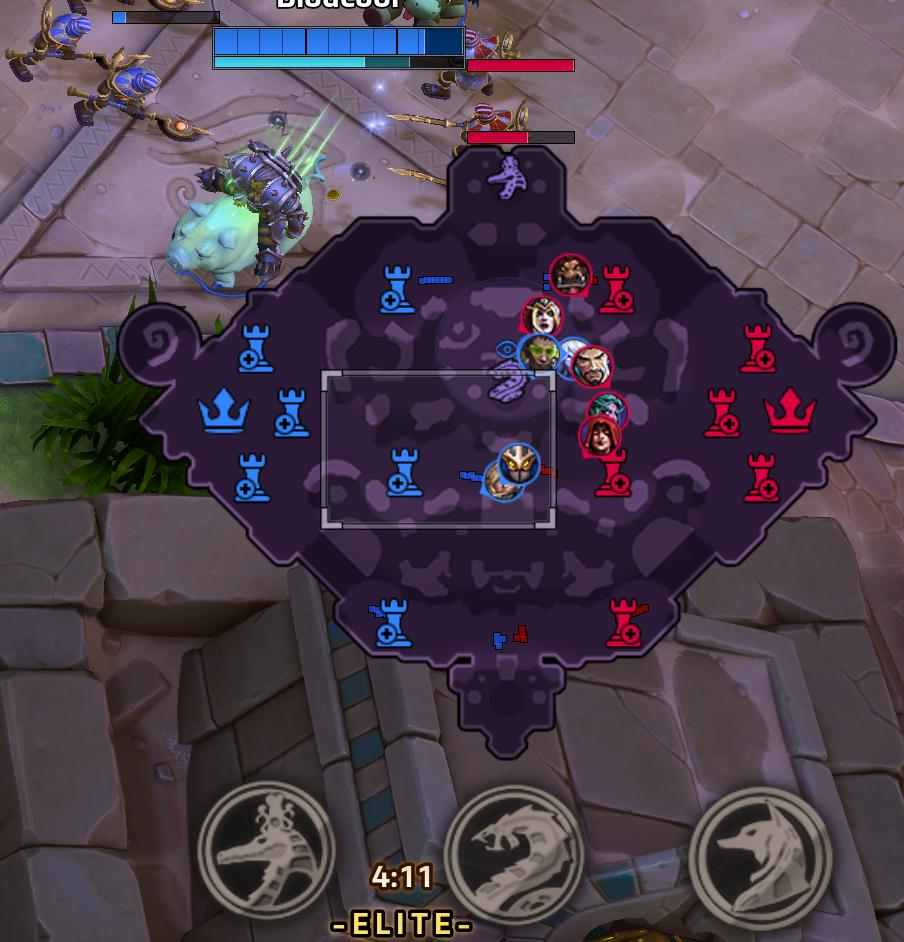blue nexus: (196, 384, 252, 433)
blue player: (517, 332, 562, 377), (481, 459, 525, 502), (496, 442, 539, 485), (552, 335, 591, 380)
blue tower: (369, 596, 413, 647), (385, 444, 424, 497), (273, 386, 311, 438), (378, 262, 416, 314), (233, 451, 270, 502), (238, 322, 274, 372)
red nexus: (762, 385, 817, 433)
red player: (568, 342, 612, 388), (578, 414, 621, 459), (521, 295, 563, 341), (549, 253, 592, 297), (585, 391, 627, 435), (586, 420, 613, 453)
red tower: (604, 596, 645, 648), (597, 261, 635, 315), (591, 448, 632, 498), (742, 450, 780, 503), (703, 386, 740, 438), (739, 322, 775, 374)
